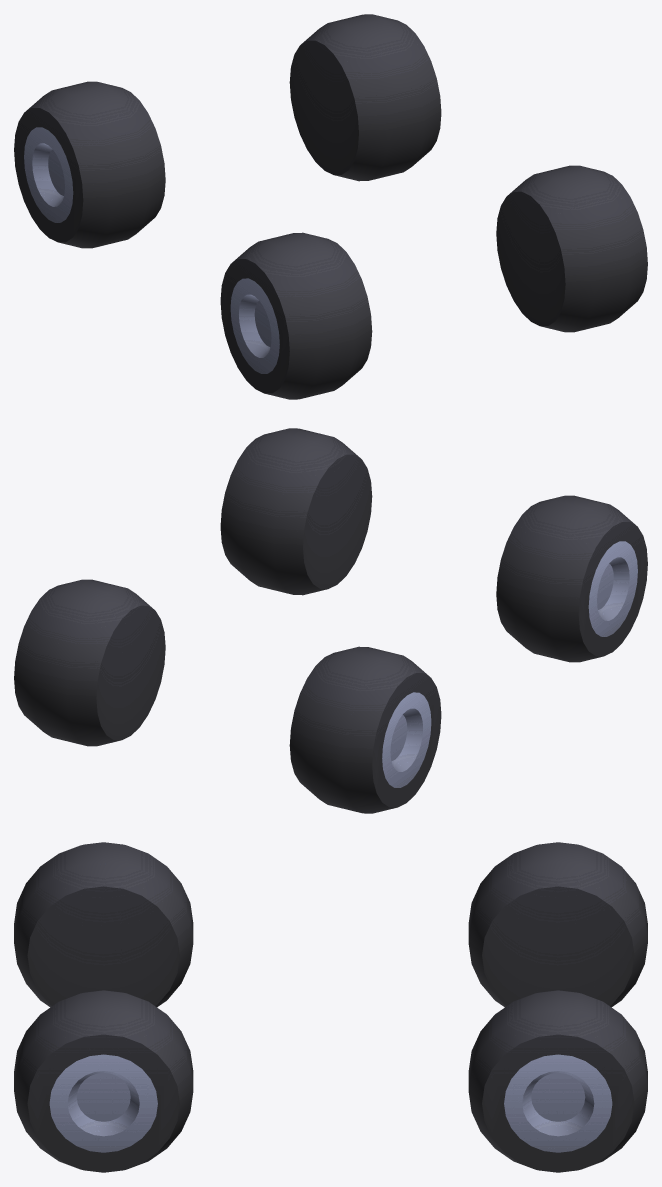
File: wheels.glb
3 renders of one model, top to bottom at view 1: azimuth 30°, elevation 25°; view 2: azimuth 150°, elevation 25°; view 3: azimuth 270°, elevation 25°, orthographic. The views are drawn at different scales.
Parts seen in each view (by area): view 1: wheels; view 2: wheels; view 3: wheels.
Boxes of the visible parts, box(x1,y1,x2,y2) form: wheels: box(14, 14, 647, 399); wheels: box(14, 428, 647, 813); wheels: box(14, 842, 647, 1172).
Size of the model in its own units: 1.52 by 0.6 by 2.12.
Materials: 1 (1 with a texture image).
